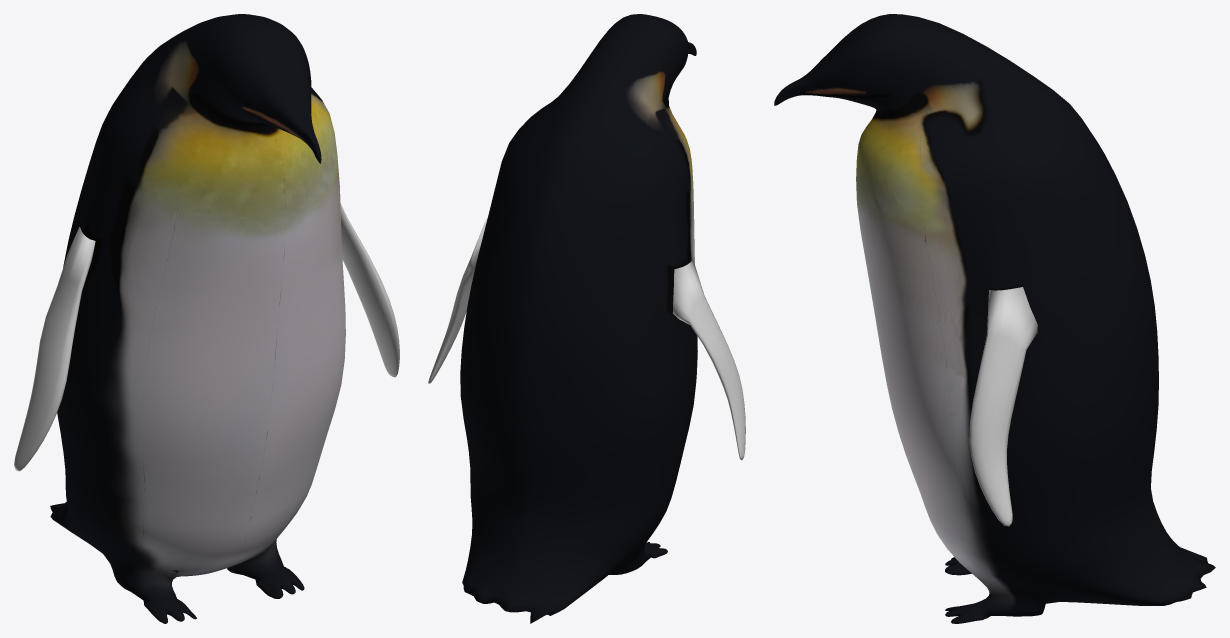
The model's file is pennguin separate parts2.fbx.
The picture shows the model from 3 angles, left to right: view 1: azimuth 30°, elevation 25°; view 2: azimuth 150°, elevation 25°; view 3: azimuth 270°, elevation 25°; orthographic projection. The views are drawn at different scales.
Parts seen in each view (by area): view 1: Penguin_Cylinder, Penguin_Cylinder.002, Penguin_Cylinder.001; view 2: Penguin_Cylinder, Penguin_Cylinder.002, Penguin_Cylinder.001; view 3: Penguin_Cylinder, Penguin_Cylinder.001.
Part boxes in pixels (x1,y1,x2,y2): Penguin_Cylinder: (50,14,345,623); Penguin_Cylinder.002: (14,226,95,471); Penguin_Cylinder.001: (340,203,399,377); Penguin_Cylinder: (460,14,697,623); Penguin_Cylinder.002: (672,259,745,460); Penguin_Cylinder.001: (428,217,487,383); Penguin_Cylinder: (774,14,1215,623); Penguin_Cylinder.001: (969,287,1037,526).
Size of the model in its own units: 77.61 by 119 by 83.57.
3 materials, 1 textured.
